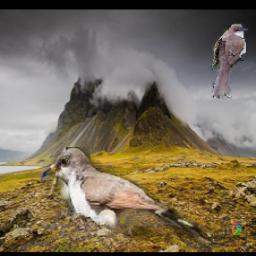Cuckoo: (41, 148, 211, 244), (212, 24, 249, 100)
